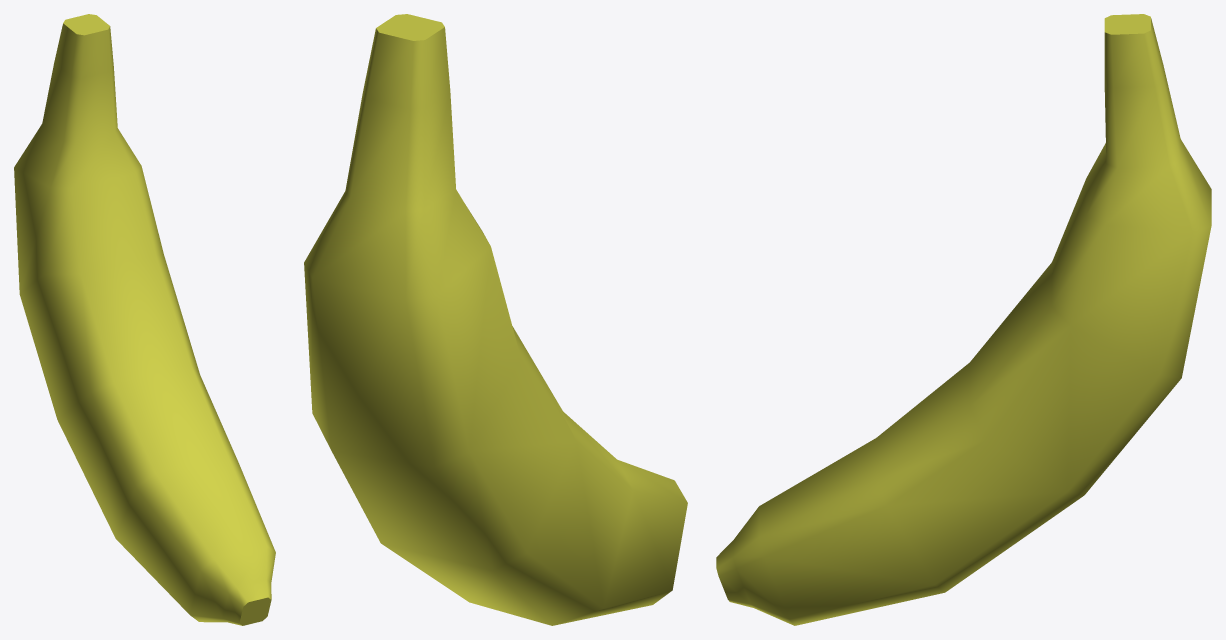
File: banana.FBX
3 renders of one model, left to right at view 1: azimuth 30°, elevation 25°; view 2: azimuth 150°, elevation 25°; view 3: azimuth 270°, elevation 25°, orthographic. The views are drawn at different scales.
Parts seen in each view (by area): view 1: SM_Icon_Banana_01; view 2: SM_Icon_Banana_01; view 3: SM_Icon_Banana_01.
Part boxes in pixels (bbox=[...]): SM_Icon_Banana_01: bbox=[14, 14, 275, 625]; SM_Icon_Banana_01: bbox=[304, 14, 687, 625]; SM_Icon_Banana_01: bbox=[716, 14, 1211, 625].
Bounding box in the file's own units: 11.93 × 49.16 × 37.58.
